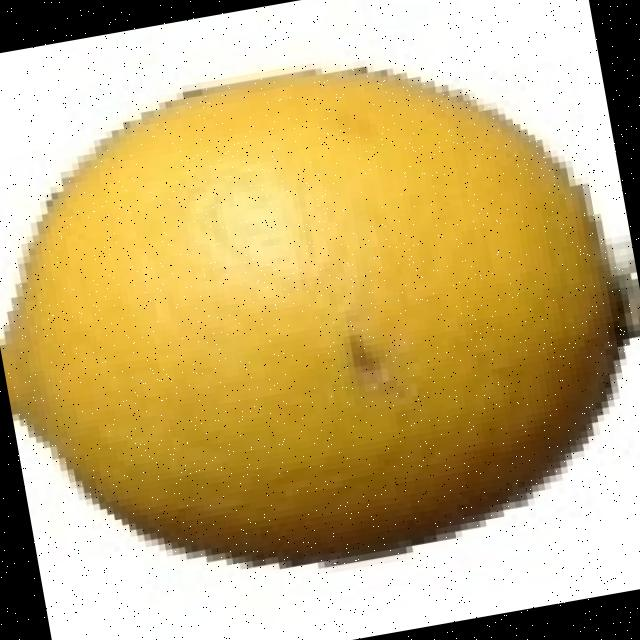lemon: (0, 71, 628, 564)
